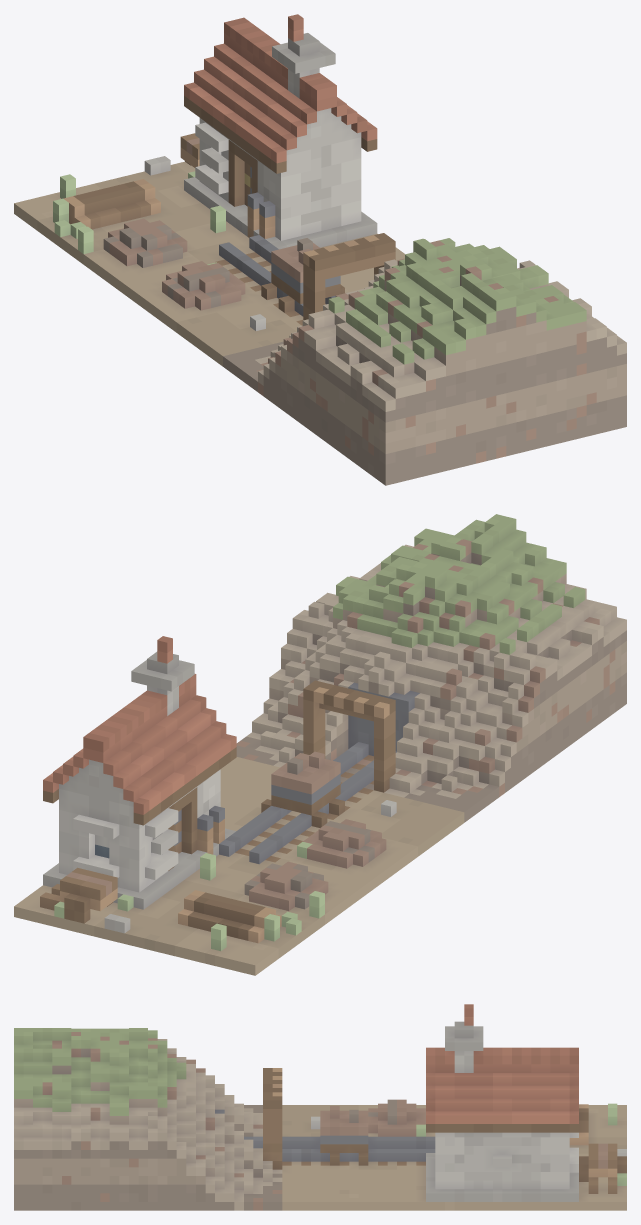
Rendered from iron_mine.glb.
3 views of the same model, one above another, from view 1: azimuth 30°, elevation 25°; view 2: azimuth 150°, elevation 25°; view 3: azimuth 270°, elevation 25° (orthographic). The views are drawn at different scales.
Parts seen in each view (by area): view 1: iron_mine; view 2: iron_mine; view 3: iron_mine.
Part boxes in pixels (x1,y1,x2,y2): iron_mine: (14,14,626,485); iron_mine: (14,514,626,975); iron_mine: (14,1004,626,1210).
Bounding box in the file's own units: 3 × 2.62 × 8.
